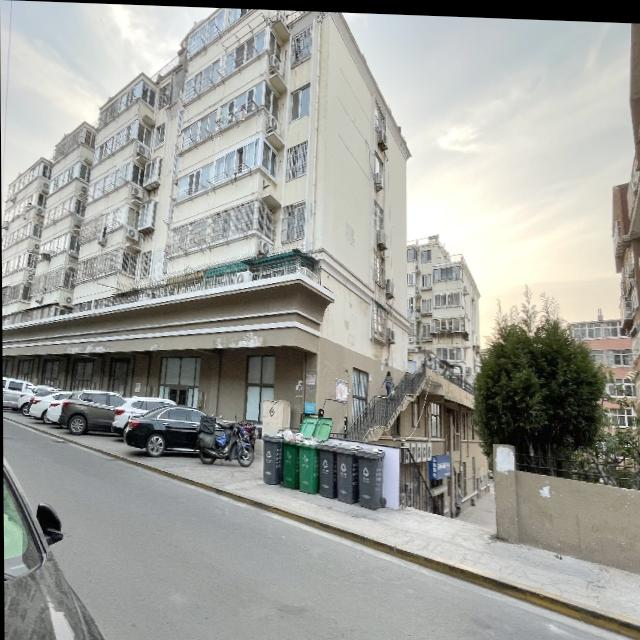garbage_bin: (354, 443, 384, 507), (334, 439, 358, 501), (315, 435, 336, 496), (260, 431, 282, 482)
overflow: (279, 425, 302, 487), (295, 434, 318, 491)
